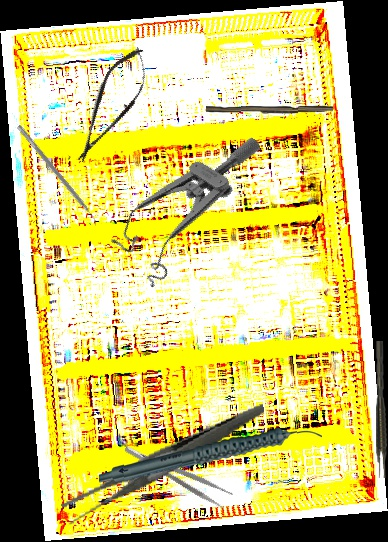Dressing Forceps: (50, 403, 278, 527), (122, 435, 234, 511)
Handpiece: (98, 424, 323, 487)
Micro Scissor: (63, 40, 160, 171)
Scalpel Handle: (205, 103, 334, 117)
Spatula Surgical: (12, 124, 102, 228)
Speculum: (101, 103, 263, 297)
Tissue Forceps: (376, 341, 387, 478)
